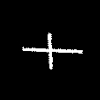single_crochet: (23, 33, 81, 68)
